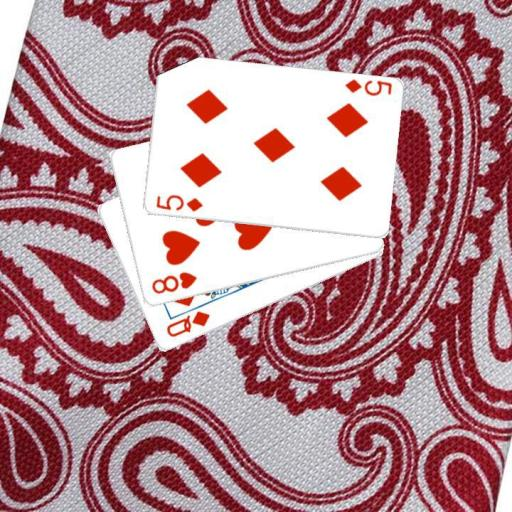5D: (153, 191, 204, 214), (342, 76, 394, 98)
8H: (148, 269, 198, 296)
QD: (163, 308, 211, 339)
